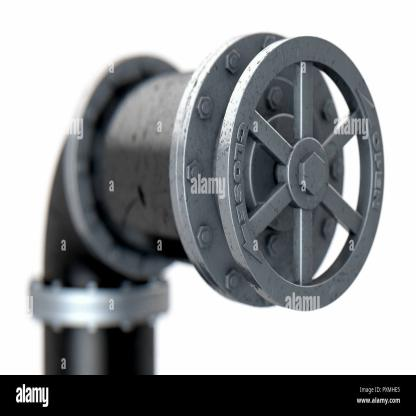PVC: (44, 32, 384, 375)
